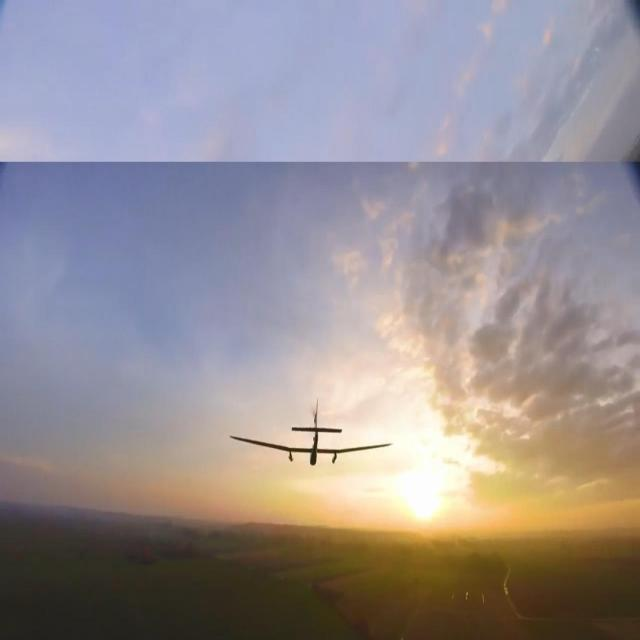iha: (230, 439, 398, 444)
